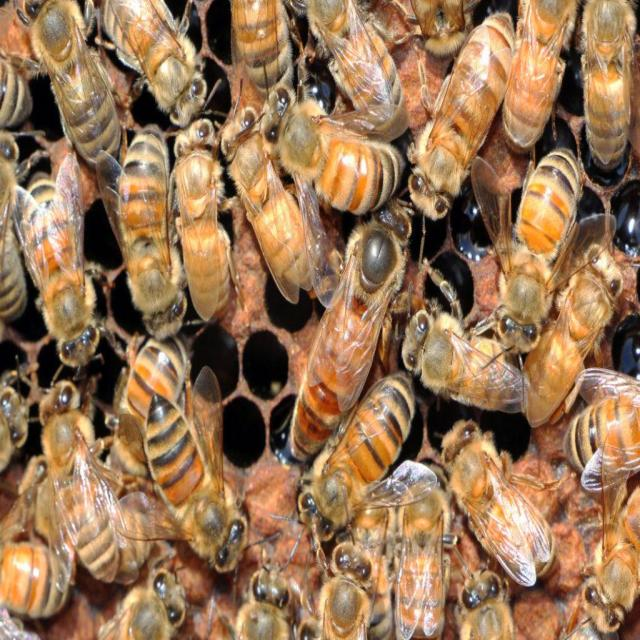honeybee: (282, 358, 438, 532), (476, 158, 600, 325), (125, 388, 245, 559), (321, 204, 411, 418), (105, 144, 197, 352), (435, 422, 541, 594), (2, 182, 106, 354), (398, 32, 507, 192), (218, 135, 306, 325), (281, 90, 411, 211), (36, 390, 125, 555), (321, 542, 464, 640), (409, 302, 521, 426), (30, 24, 126, 164), (112, 2, 210, 135), (174, 135, 236, 320), (536, 378, 640, 487), (571, 0, 635, 154), (570, 527, 640, 640), (512, 0, 561, 146), (119, 565, 211, 640), (235, 557, 309, 640), (458, 572, 534, 640), (226, 23, 284, 103), (8, 542, 64, 611)
